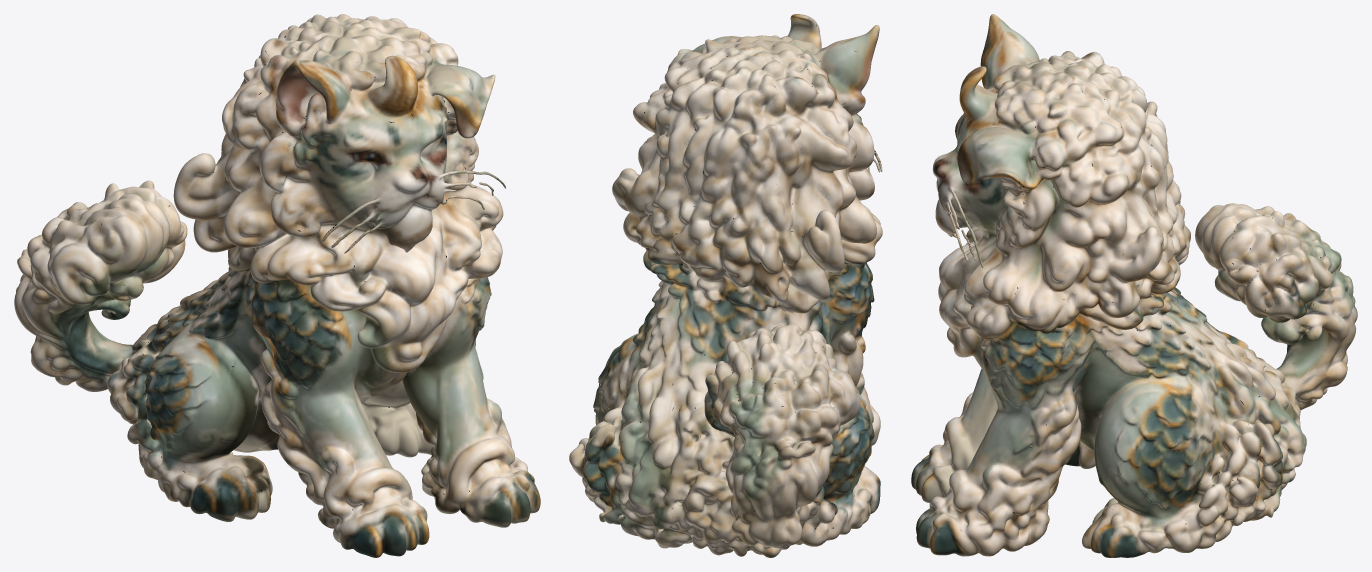
The model's file is diting-static-v3.glb.
The picture shows the model from 3 angles, left to right: view 1: azimuth 30°, elevation 25°; view 2: azimuth 150°, elevation 25°; view 3: azimuth 270°, elevation 25°; orthographic projection. The views are drawn at different scales.
Visible parts, largest first — view 1: Diting reconstructed real surface (unrigged); view 2: Diting reconstructed real surface (unrigged); view 3: Diting reconstructed real surface (unrigged).
Part boxes in pixels (x1,y1,x2,y2): Diting reconstructed real surface (unrigged): (14,14,540,557); Diting reconstructed real surface (unrigged): (569,14,882,557); Diting reconstructed real surface (unrigged): (911,14,1357,557).
Bounding box in the file's own units: 2.76 × 3.8 × 3.42.
Materials: 1 (1 with a texture image).
